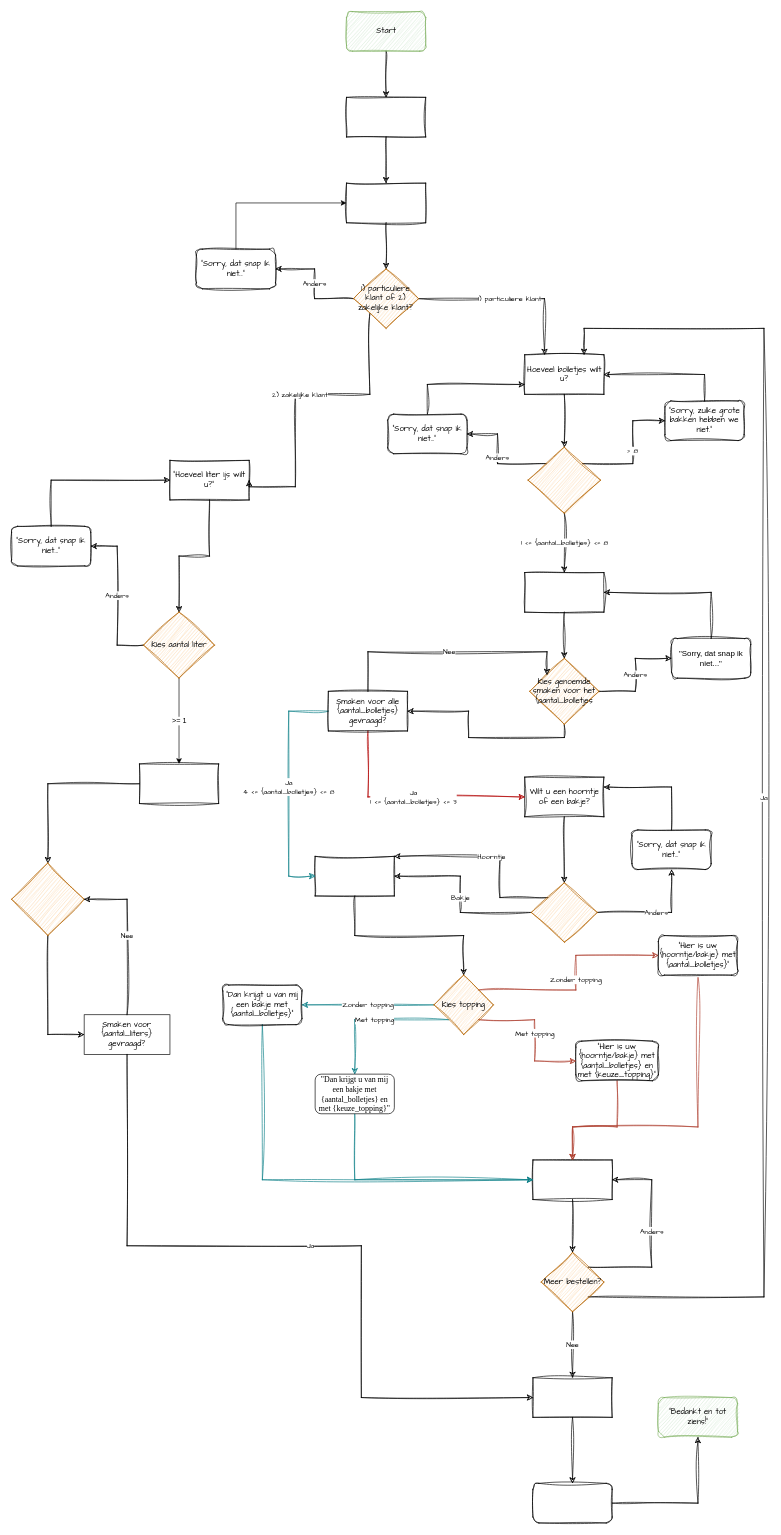
The diagram is 781 pixels wide and 1535 high, and some of its shapes have lost their labels. Here are the shapes that lost their labels. From the top down, the box of each, then its label:
(346, 97, 426, 137): Welkom bij Papi Gelato
(346, 182, 426, 223): "Bent u 1) een particuliere klant of 2) een zakelijke klant?"
(527, 446, 601, 513): Kies aantal bolletjes
(524, 572, 604, 612): Welke smaak/smaken wilt u bestellen?
(139, 763, 219, 804): Welke smaak/smaken wilt u per liter bestellen?
(314, 856, 394, 896): Wat voor topping wilt u?
(11, 862, 84, 936): Kies genoemde smaken voor {aantal_liters)
(531, 882, 597, 942): Hoorntje of bakje?
(532, 1159, 612, 1200): "Wilt u nog meer bestellen?"
(532, 1377, 612, 1417): Alles wordt bij elkaar berekend
(532, 1483, 612, 1523): Bonnetje wordt uitgeprint
